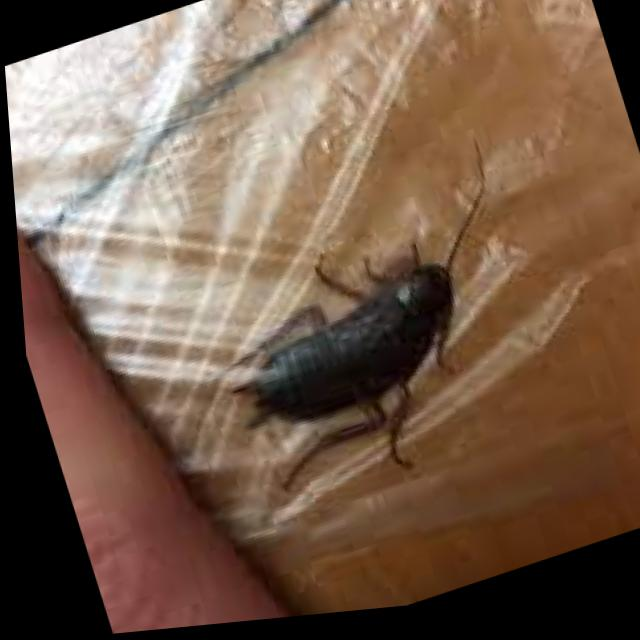Cockroach: (133, 174, 562, 551)
